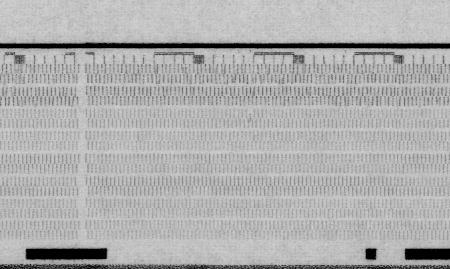Oblique printing: (246, 109, 256, 123), (70, 97, 80, 109), (213, 64, 223, 75)
